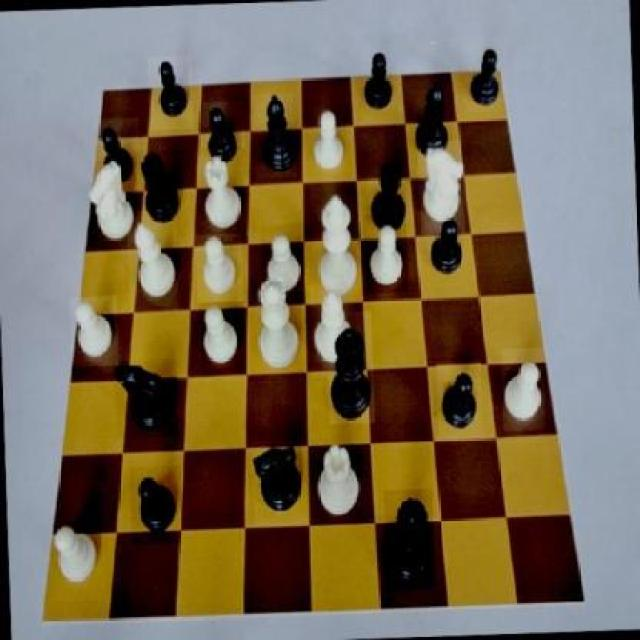bishop: (408, 77, 454, 165), (252, 94, 296, 178)
black-bishop: (326, 311, 376, 424)
black-king: (114, 360, 178, 440), (251, 438, 307, 526)
black-knight: (130, 466, 182, 546), (437, 360, 483, 439), (148, 55, 195, 131), (462, 37, 508, 114), (356, 39, 396, 122), (96, 117, 140, 190), (199, 102, 246, 169), (425, 217, 467, 289)
black-pawn: (383, 489, 435, 592)
black-queen: (138, 149, 188, 237), (366, 154, 410, 237)
black-rook: (128, 210, 180, 312), (309, 283, 356, 374)
white-bishop: (311, 190, 364, 304)
white-king: (88, 157, 138, 251), (417, 138, 465, 234)
white-knight: (50, 517, 104, 600), (304, 100, 352, 181), (198, 298, 246, 378), (500, 348, 545, 432), (363, 214, 408, 294), (70, 297, 119, 368), (260, 223, 303, 302), (195, 232, 243, 302)
white-pawn: (248, 277, 303, 383)
white-queen: (200, 148, 249, 238), (314, 438, 363, 524)
